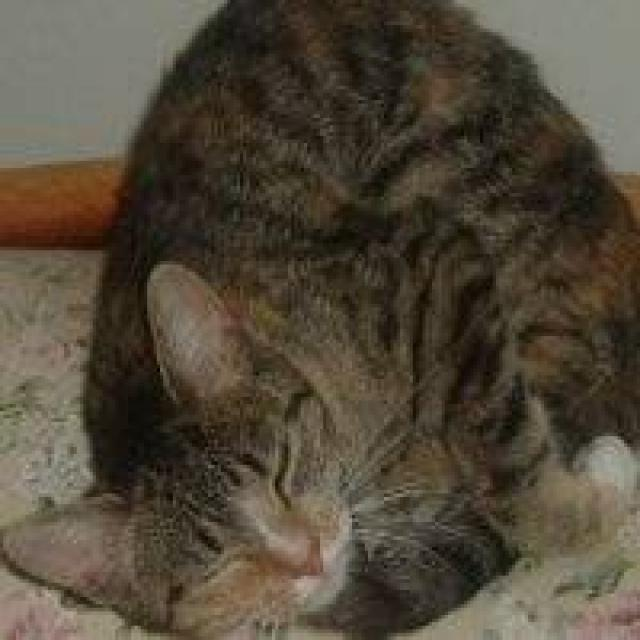Bengal: (0, 257, 349, 633)
